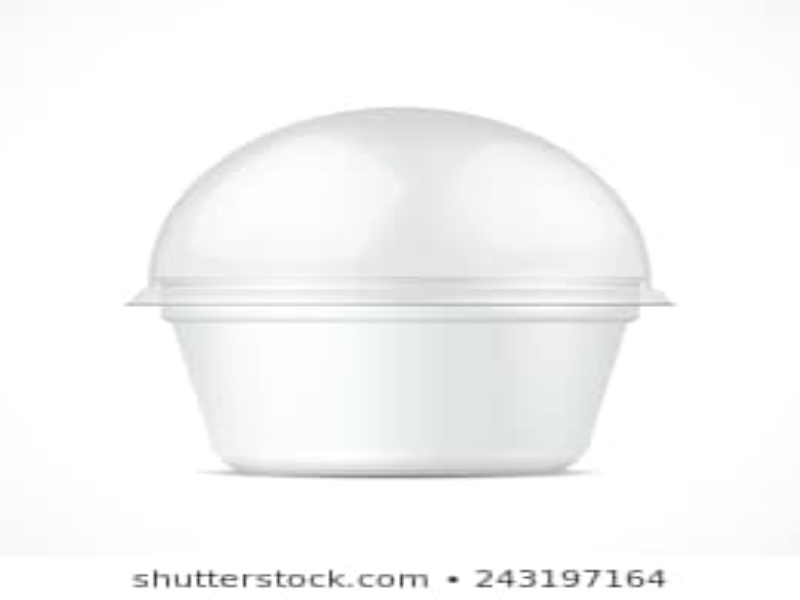plastic-cup: (130, 106, 674, 478)
